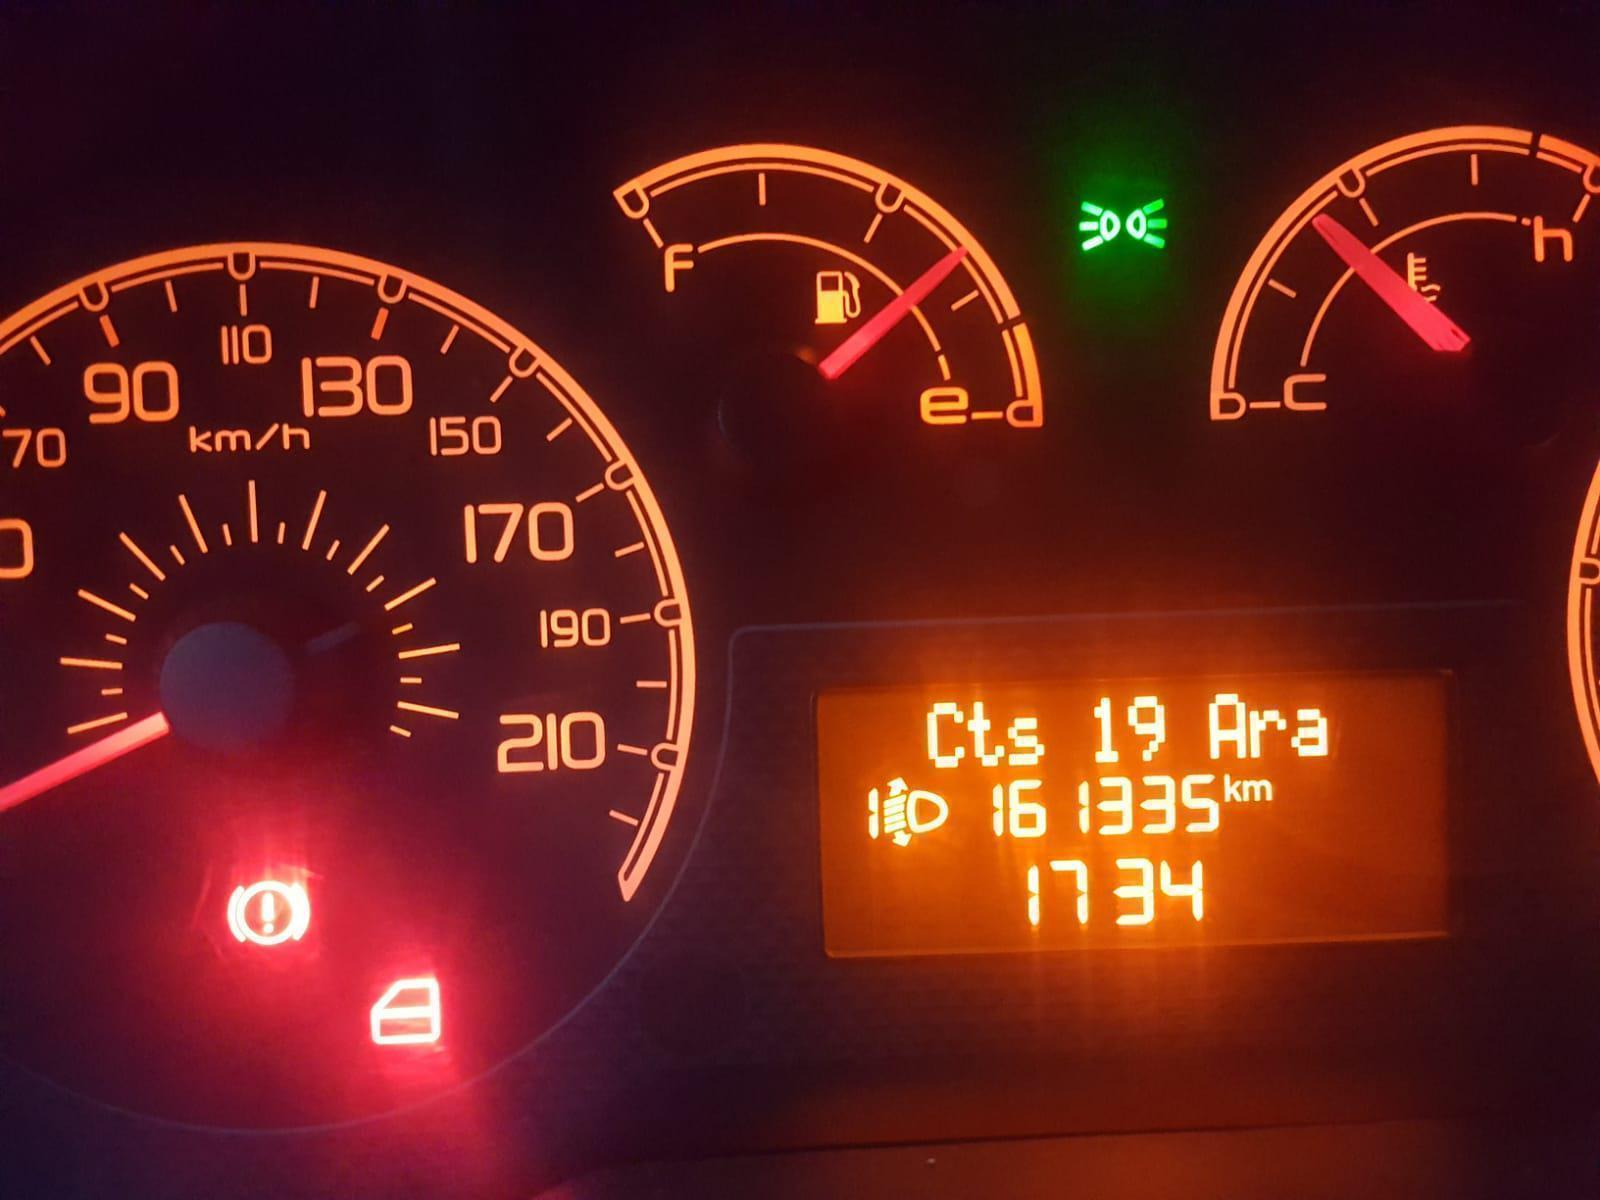1: (1089, 689, 1120, 766), (1023, 858, 1046, 937), (864, 779, 882, 845), (988, 776, 1005, 837), (1077, 776, 1094, 839)
3: (1114, 853, 1155, 926), (1140, 770, 1175, 834), (1097, 774, 1133, 837)
4: (1160, 856, 1204, 921)
5: (1179, 771, 1220, 834)
6: (1007, 776, 1046, 839)
7: (1047, 857, 1094, 928)
9: (1128, 688, 1170, 763)
X: (922, 700, 965, 770), (966, 697, 1005, 771), (1207, 689, 1247, 761), (1290, 703, 1334, 760), (1007, 712, 1048, 768), (1249, 705, 1288, 758), (1242, 776, 1271, 803), (1222, 771, 1238, 804)
odometer: (792, 661, 1471, 976)
